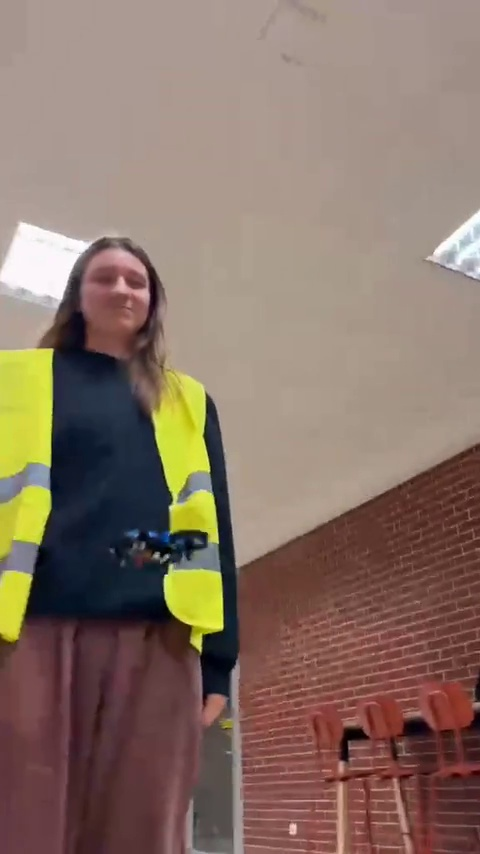drone: (110, 524, 209, 572)
vest: (9, 231, 236, 854)
